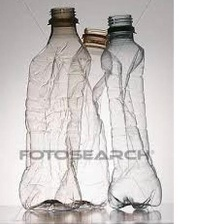bottle: (15, 4, 91, 213), (98, 10, 164, 214), (64, 24, 110, 210)
